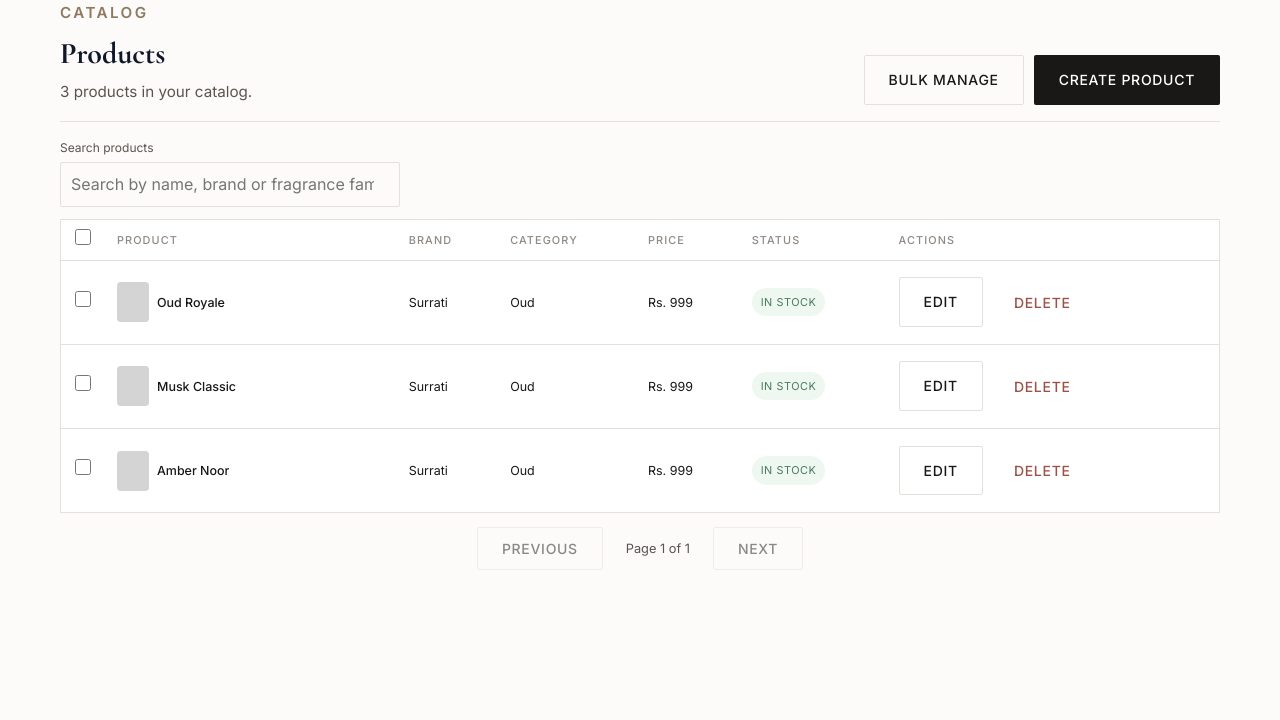
Scenario: Products admin page — bulk delete confirmation › opens a confirmation with the count and can-cancel action, without deleting on cancel
Expected: the text "Oud Royale" is shown, [157, 292, 225, 313]
Step 1. Click the checkbox named "Select Oud Royale" → [83, 299], box [75, 291, 91, 307]
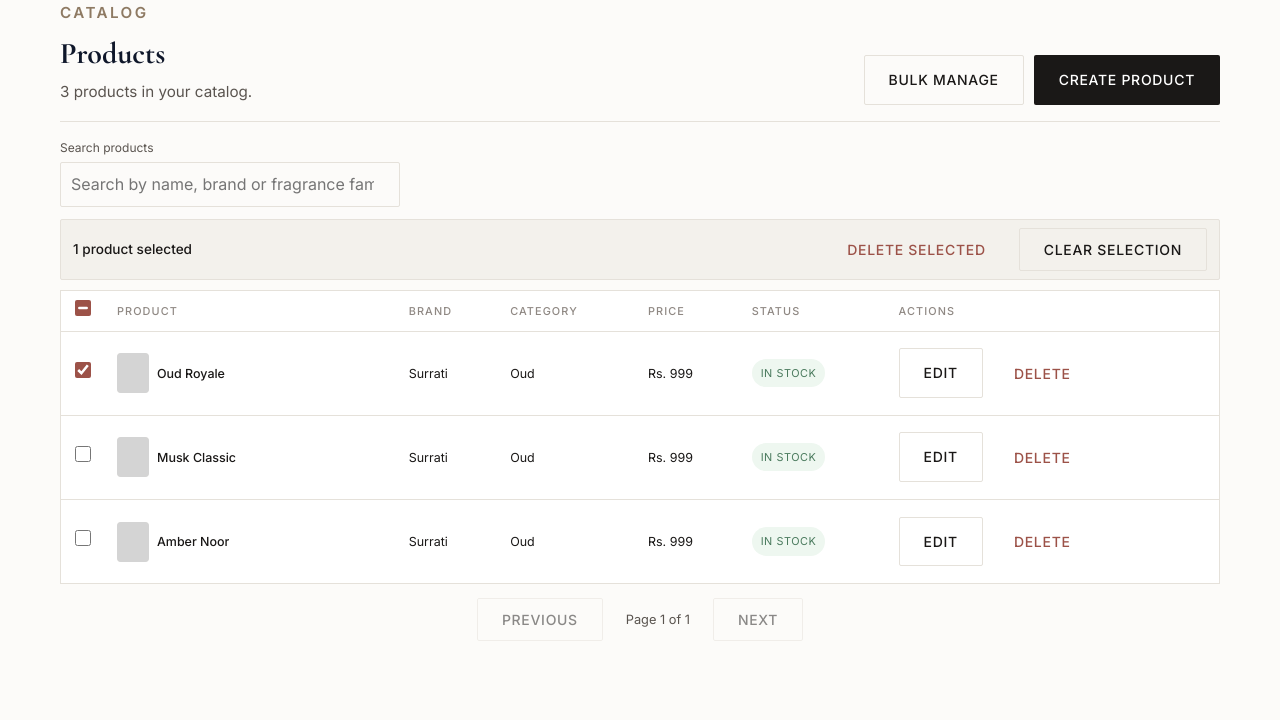
Step 2. Click the checkbox named "Select Musk Classic" → [83, 454], box [75, 446, 91, 462]
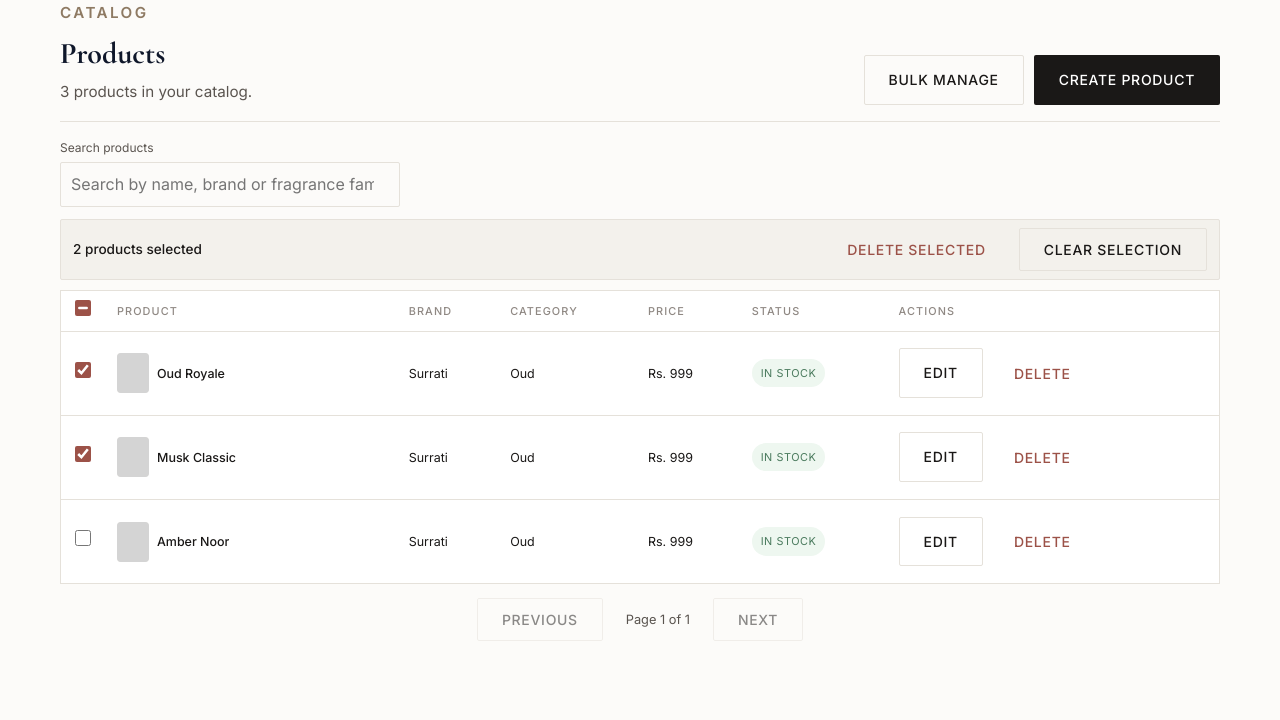
Step 3. Click the button "Delete Selected" → [916, 250], box [822, 228, 1011, 271]
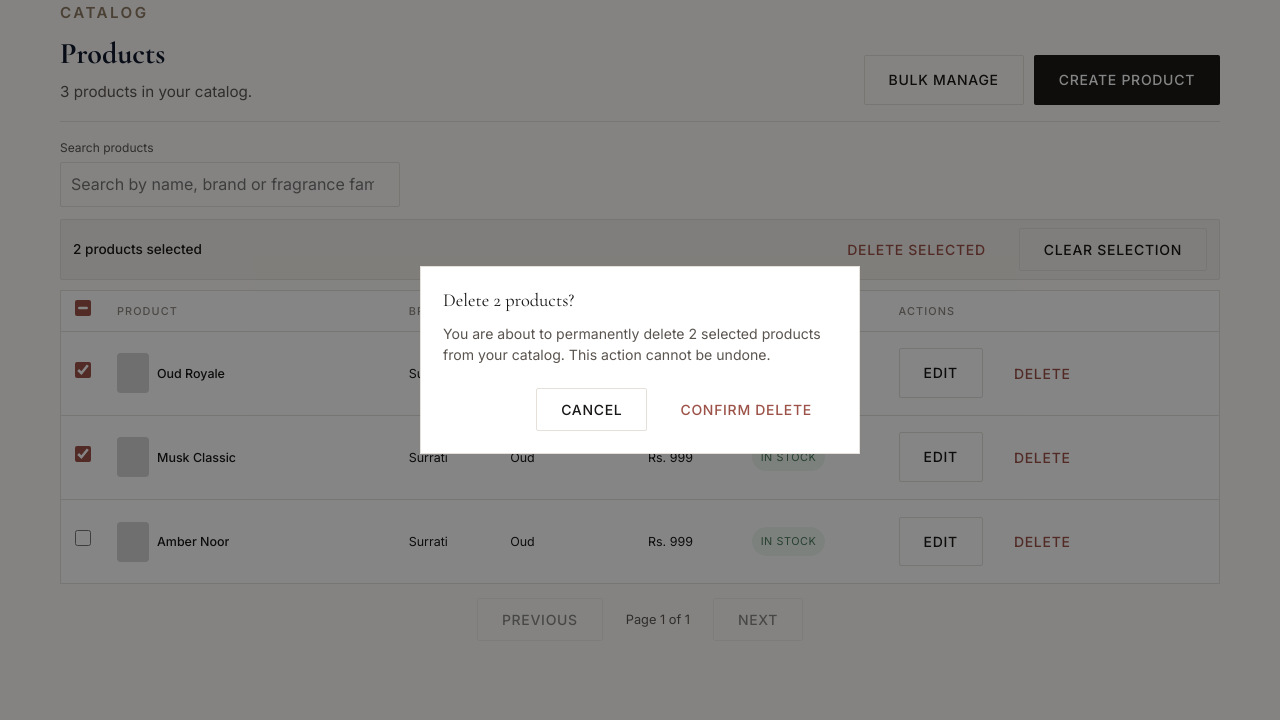
Now the heading "Delete 2 products?" is shown, box [443, 289, 574, 311]
Now the text "This action cannot be undone." is shown, box [443, 346, 770, 364]
Step 4. Click the button "Cancel" → [592, 410], box [536, 388, 648, 431]
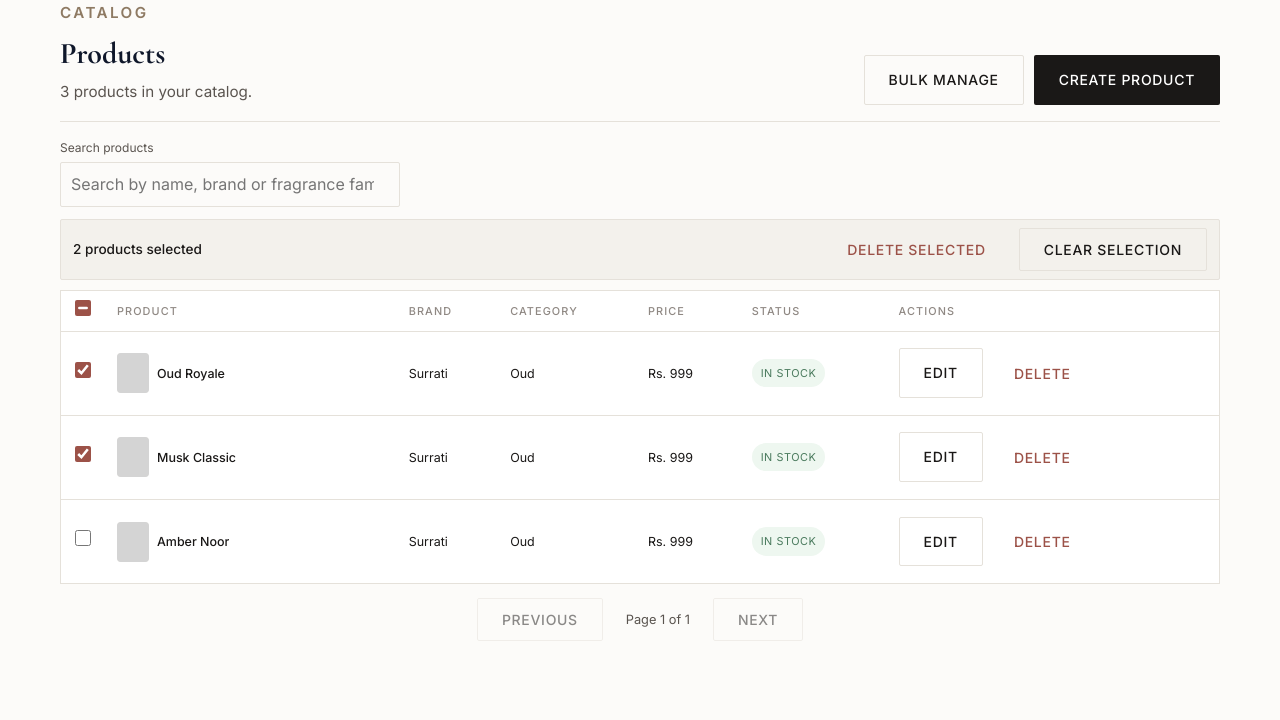
Now the text "2 products selected" is shown, box [73, 238, 202, 261]
Now the dialog is gone
